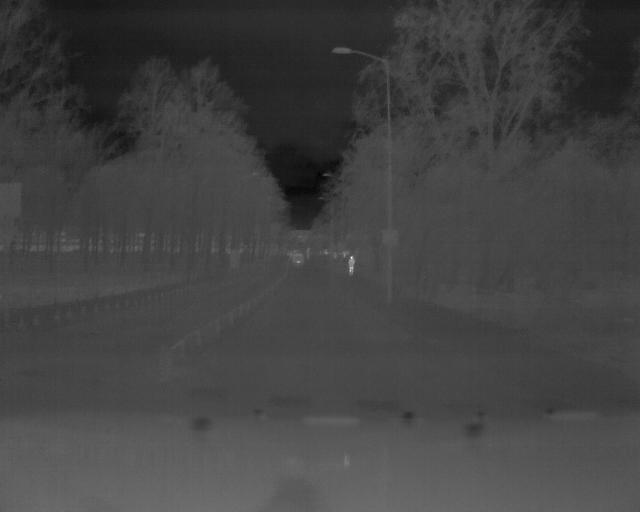car: (291, 251, 305, 266)
person: (347, 254, 357, 277)
